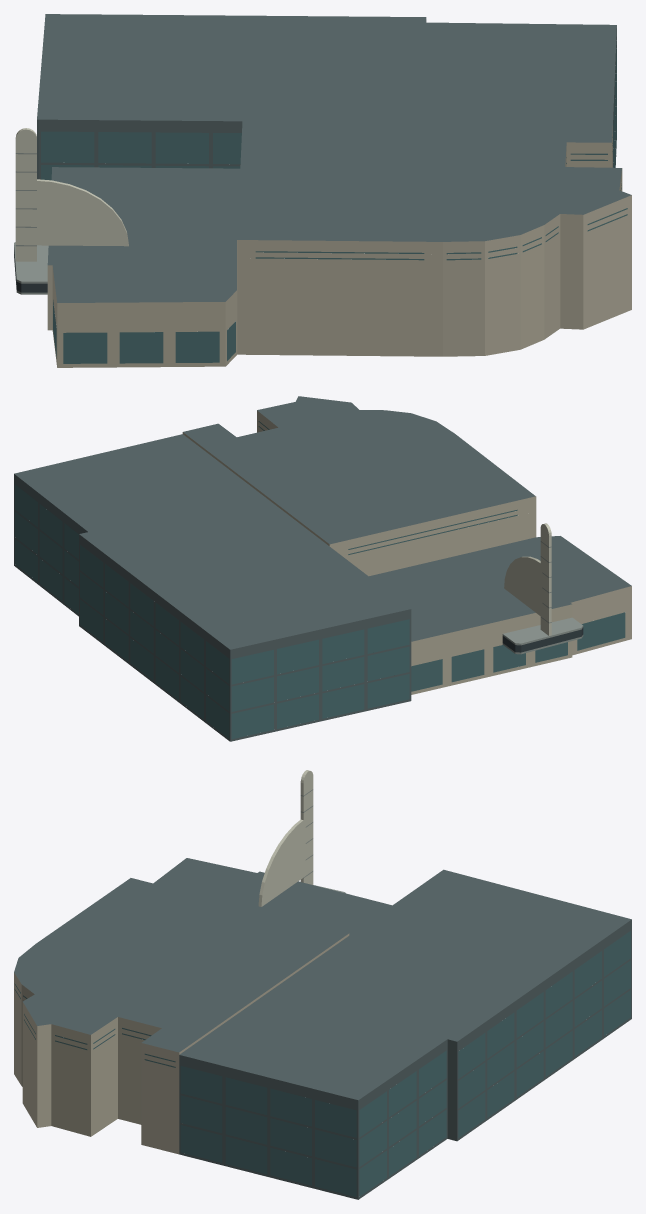
Rendered from afi-silver-theatre-far.glb.
3 renders of one model, top to bottom at view 1: azimuth 30°, elevation 25°; view 2: azimuth 150°, elevation 25°; view 3: azimuth 270°, elevation 25°, orthographic. The views are drawn at different scales.
Visible parts, largest first — view 1: afi-silver-theatre-0-steel, afi-silver-theatre-0-stone, afi-silver-theatre-0-glass, afi-silver-theatre-0-white, afi-silver-theatre-0-chrome; view 2: afi-silver-theatre-0-steel, afi-silver-theatre-0-glass, afi-silver-theatre-0-stone, afi-silver-theatre-0-white, afi-silver-theatre-0-chrome, afi-silver-theatre-0-screen; view 3: afi-silver-theatre-0-steel, afi-silver-theatre-0-glass, afi-silver-theatre-0-stone, afi-silver-theatre-0-white.
Part boxes in pixels (left/top/right/bottom): afi-silver-theatre-0-steel: left=37, top=14, right=631, bottom=302; afi-silver-theatre-0-stone: left=47, top=126, right=631, bottom=367; afi-silver-theatre-0-glass: left=41, top=40, right=627, bottom=363; afi-silver-theatre-0-white: left=15, top=128, right=128, bottom=261; afi-silver-theatre-0-chrome: left=14, top=153, right=48, bottom=294; afi-silver-theatre-0-steel: left=14, top=396, right=631, bottom=741; afi-silver-theatre-0-glass: left=15, top=421, right=625, bottom=739; afi-silver-theatre-0-stone: left=182, top=410, right=631, bottom=694; afi-silver-theatre-0-white: left=504, top=523, right=551, bottom=635; afi-silver-theatre-0-chrome: left=502, top=541, right=583, bottom=654; afi-silver-theatre-0-screen: left=502, top=627, right=583, bottom=652; afi-silver-theatre-0-steel: left=14, top=858, right=631, bottom=1199; afi-silver-theatre-0-glass: left=14, top=931, right=630, bottom=1196; afi-silver-theatre-0-stone: left=14, top=933, right=349, bottom=1154; afi-silver-theatre-0-white: left=258, top=770, right=313, bottom=906.
Size of the model in its own units: 78.39 by 20.6 by 71.96.
